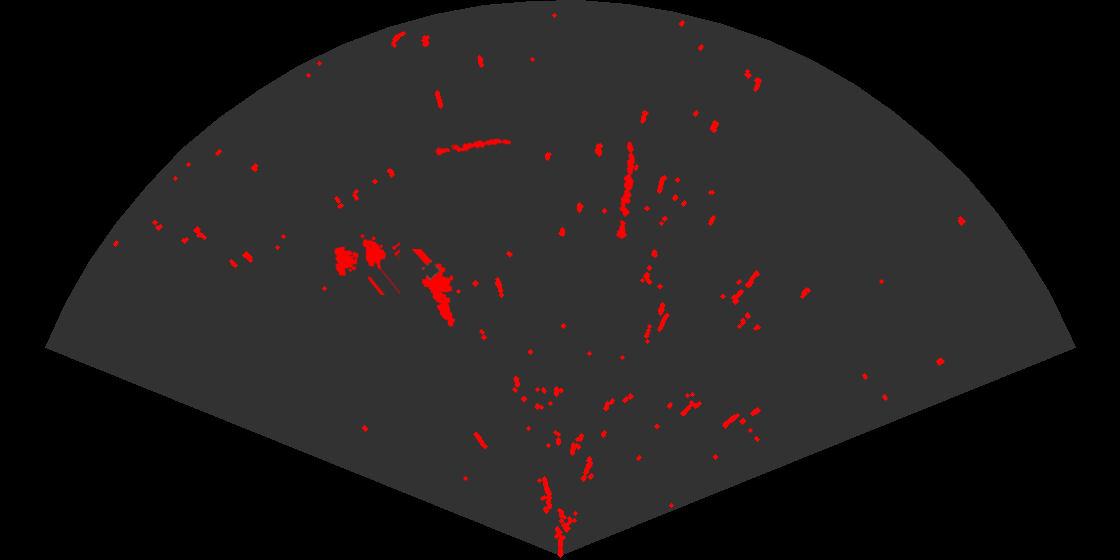cage: (333, 233, 400, 295)
chain: (615, 140, 637, 242), (432, 137, 513, 157)
frogman: (410, 249, 457, 328)
